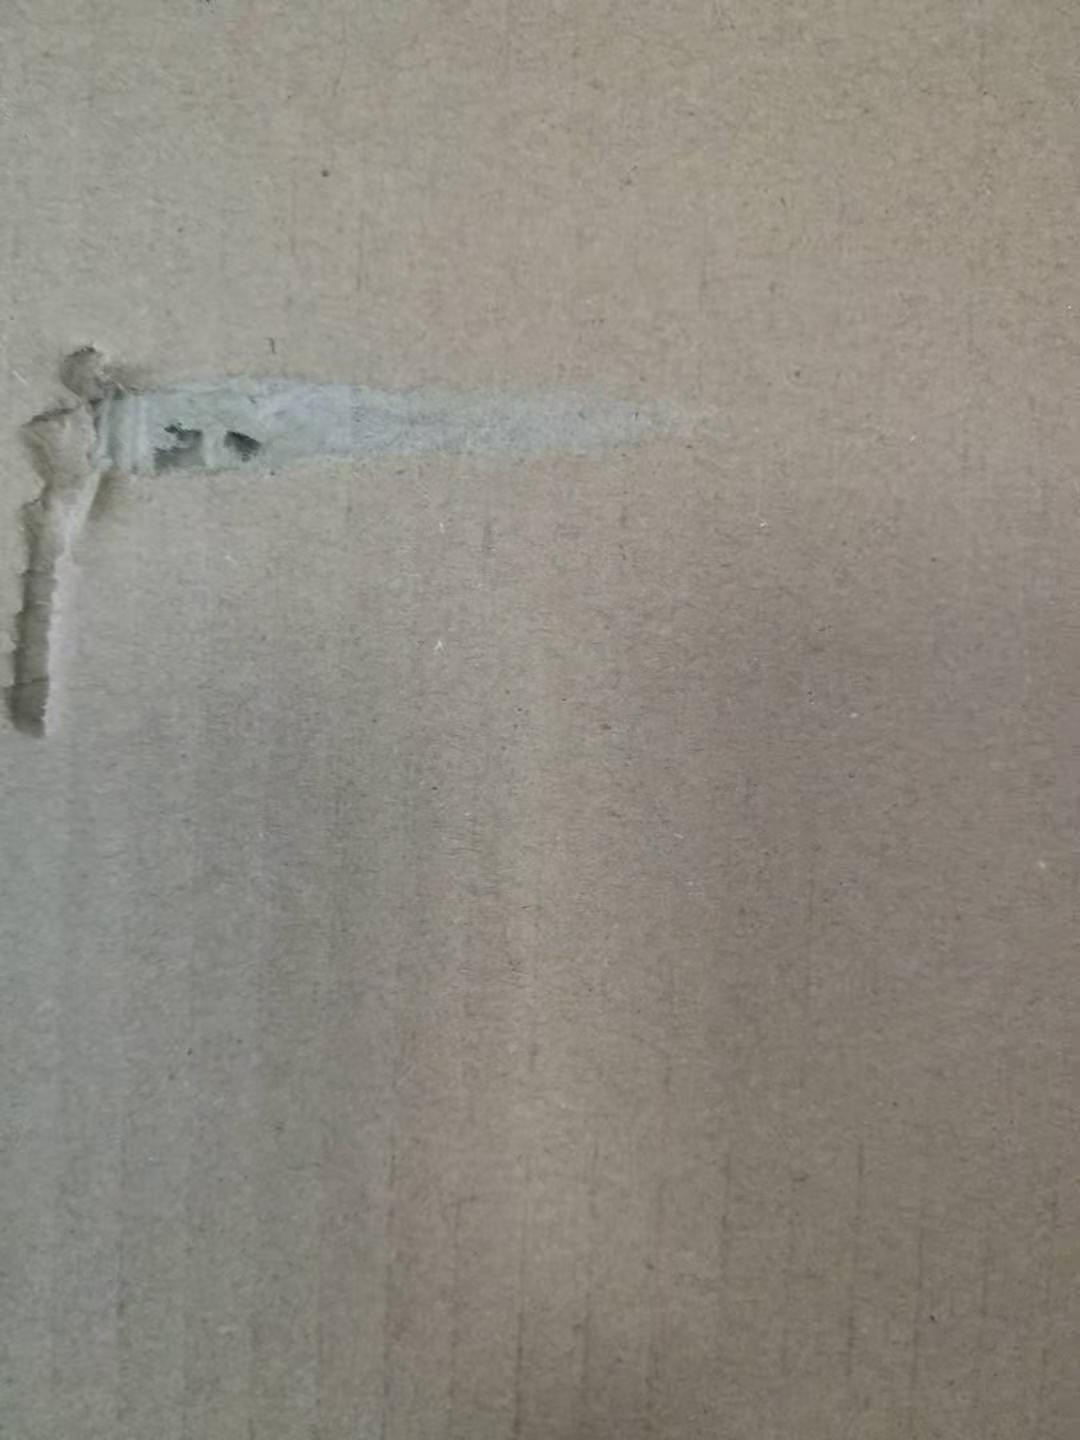defect: (1, 317, 745, 759)
